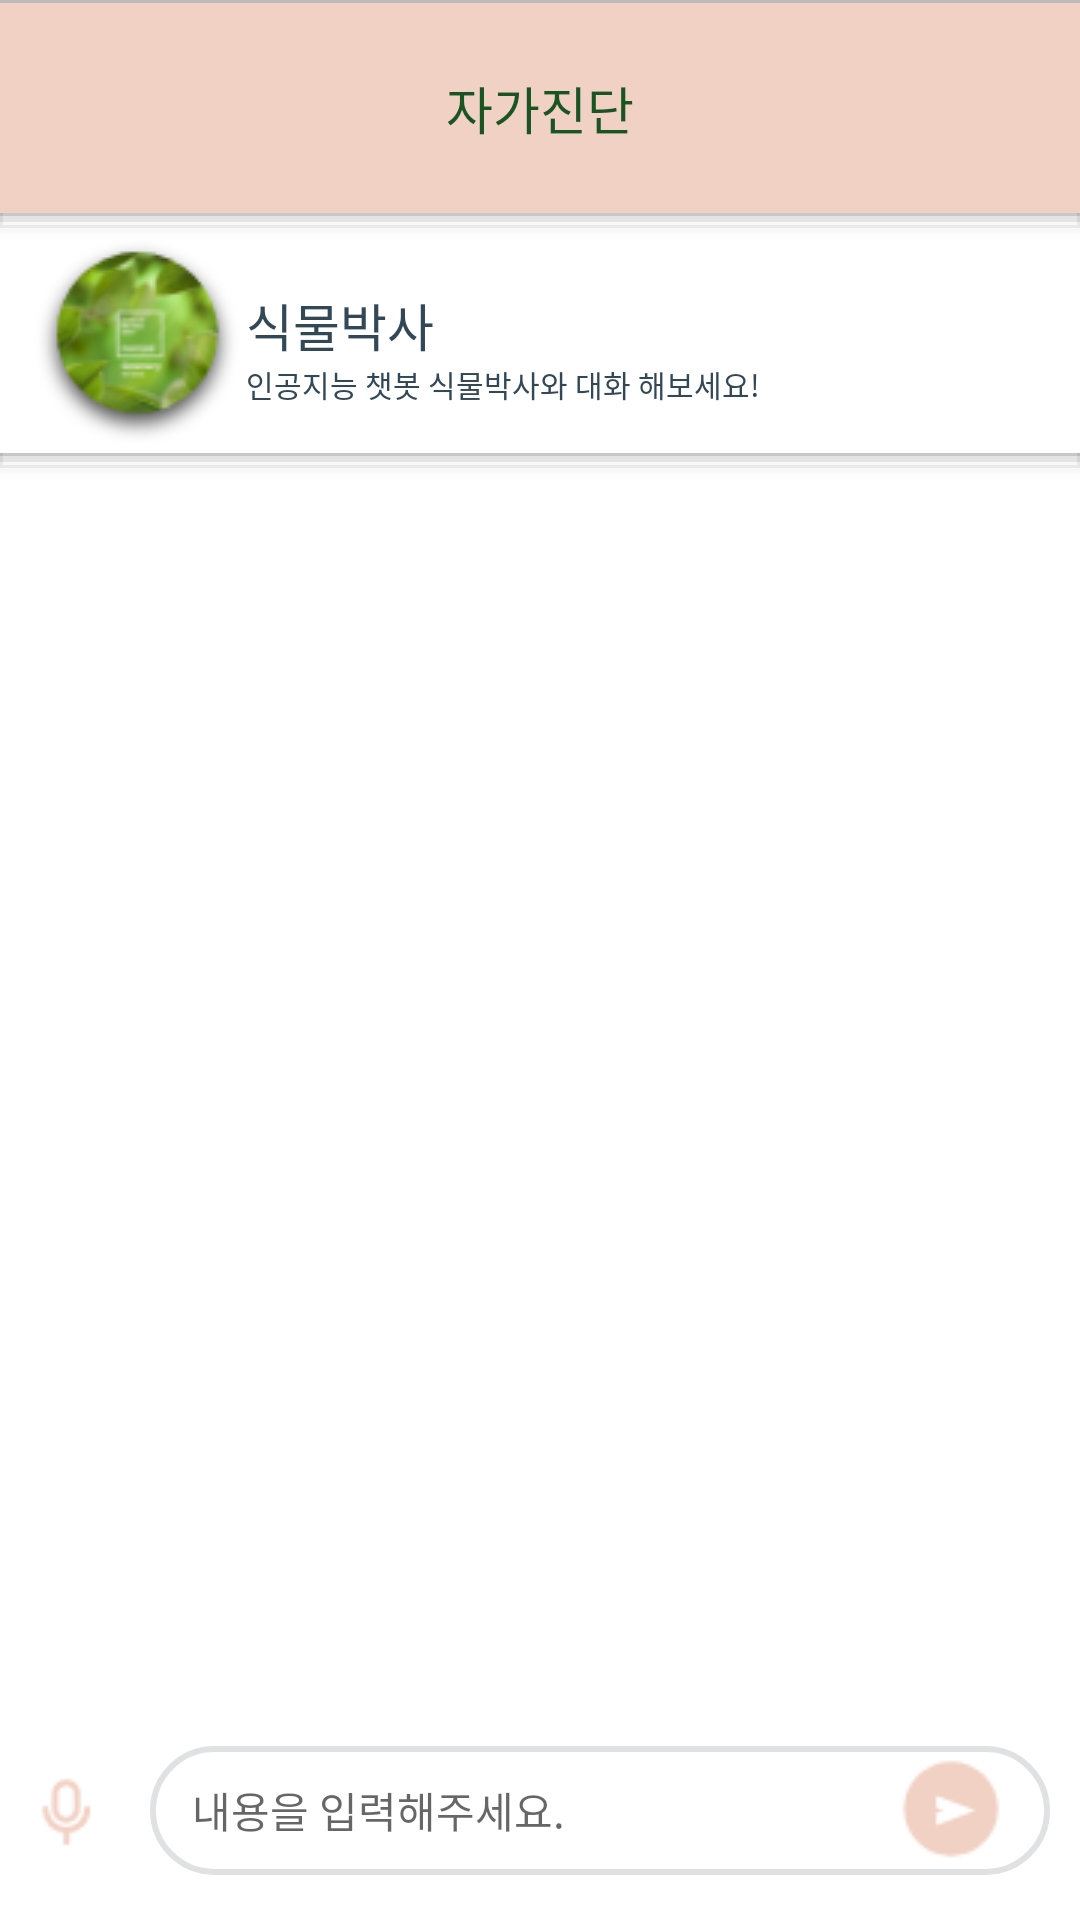

Where to tap for icons on this 1080px x 1920px app screen, as (x,y):
mike: (66,1812)
plant: (137,341)
send: (951,1809)
